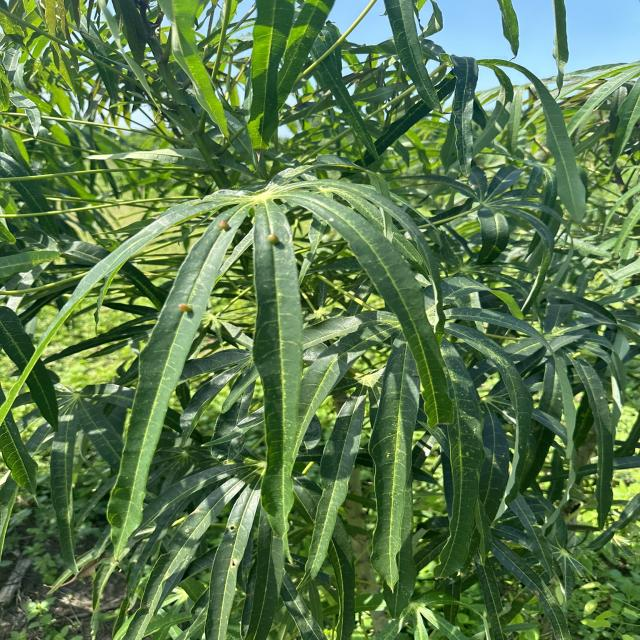Mosca: (170, 279, 218, 337), (262, 224, 294, 261), (213, 210, 253, 238)
